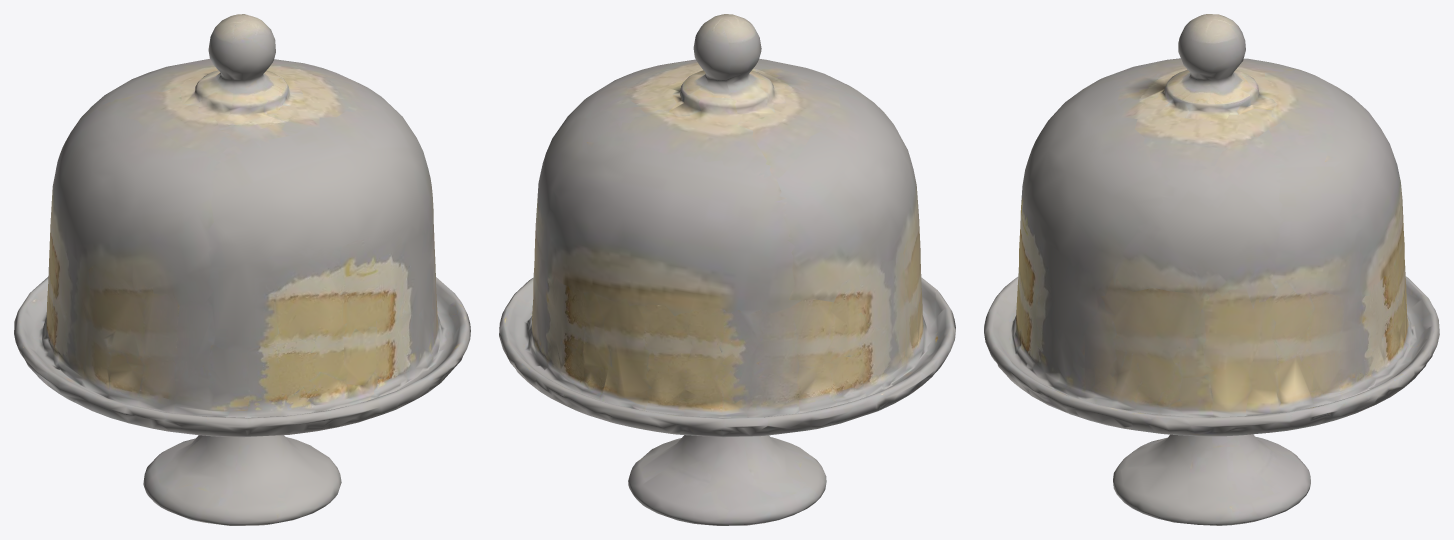
The model's file is cake.glb.
The picture shows the model from 3 angles, left to right: view 1: azimuth 30°, elevation 25°; view 2: azimuth 150°, elevation 25°; view 3: azimuth 270°, elevation 25°; orthographic projection.
Bounding box in the file's own units: 1.67 × 1.9 × 1.67.
1 material, 1 textured.
